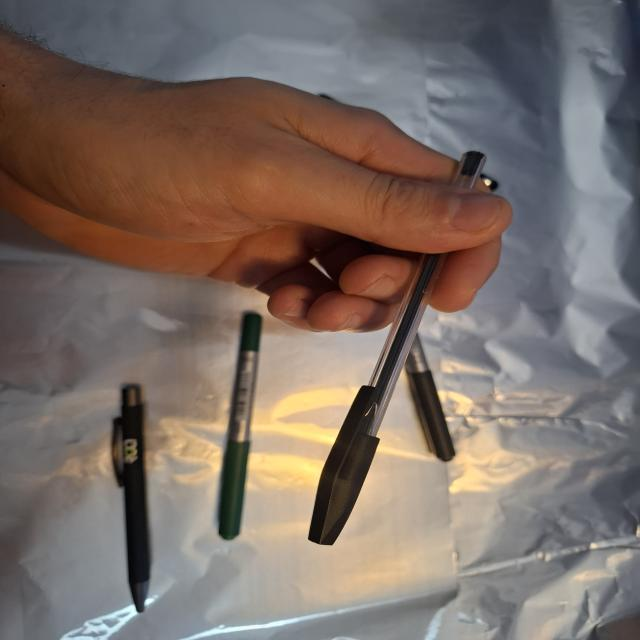glove_off: (4, 41, 518, 336)
